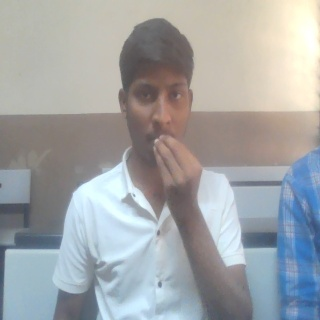Food: (151, 133, 205, 220)
